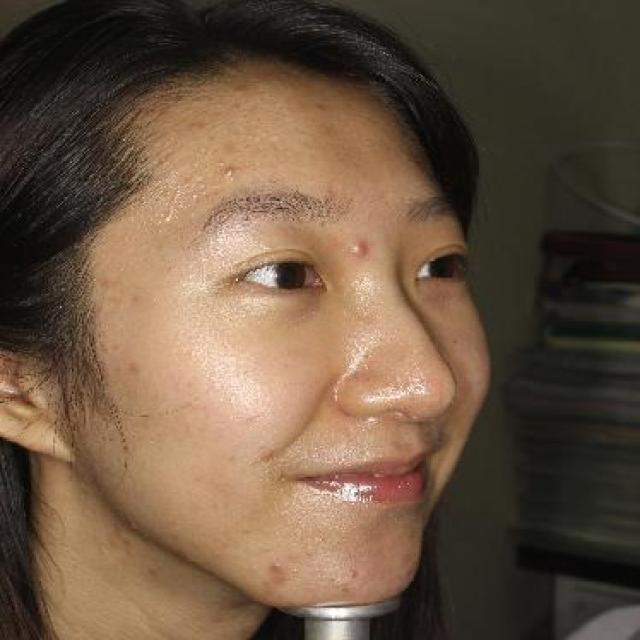Acne: (339, 238, 376, 262), (252, 440, 282, 468), (217, 158, 245, 180), (260, 557, 289, 577)
Whiteheads: (342, 568, 361, 582)
